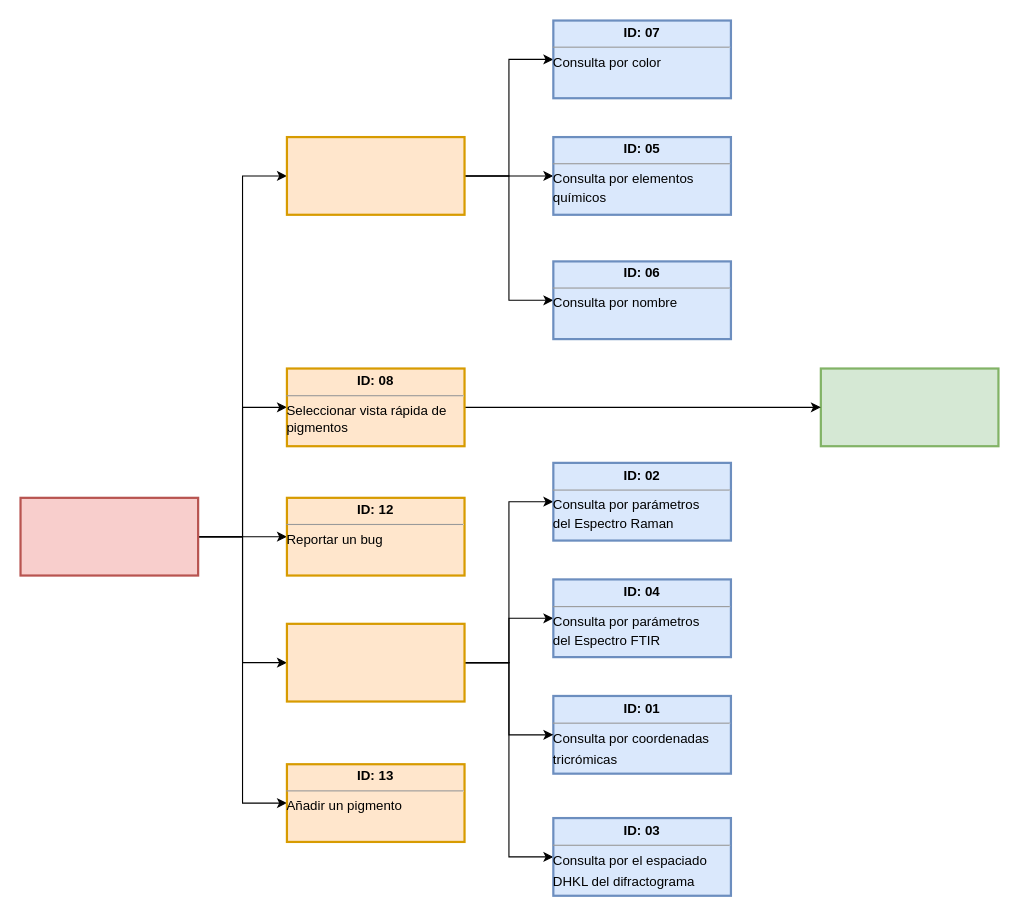
The diagram is 1018 pixels wide and 916 high, and some of its shapes have lost their labels. The box of each missing label's shape, as (x1, y1, x2, y2) in pixels:
ID: 09 Seleccionar consulta simple de pigmentos: (285, 135, 465, 215)
ID: 10 Seleccionar consulta avanzada de pigmentos: (285, 622, 465, 702)
ID: 11 Ver información de un pigmento: (819, 367, 999, 447)
ID: 14 Vista del menú principal: (19, 496, 199, 576)
